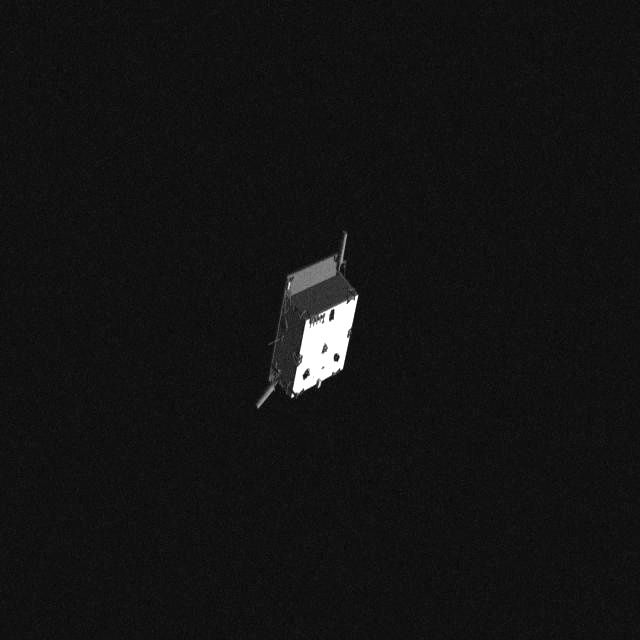satellite: (254, 228, 368, 426)
